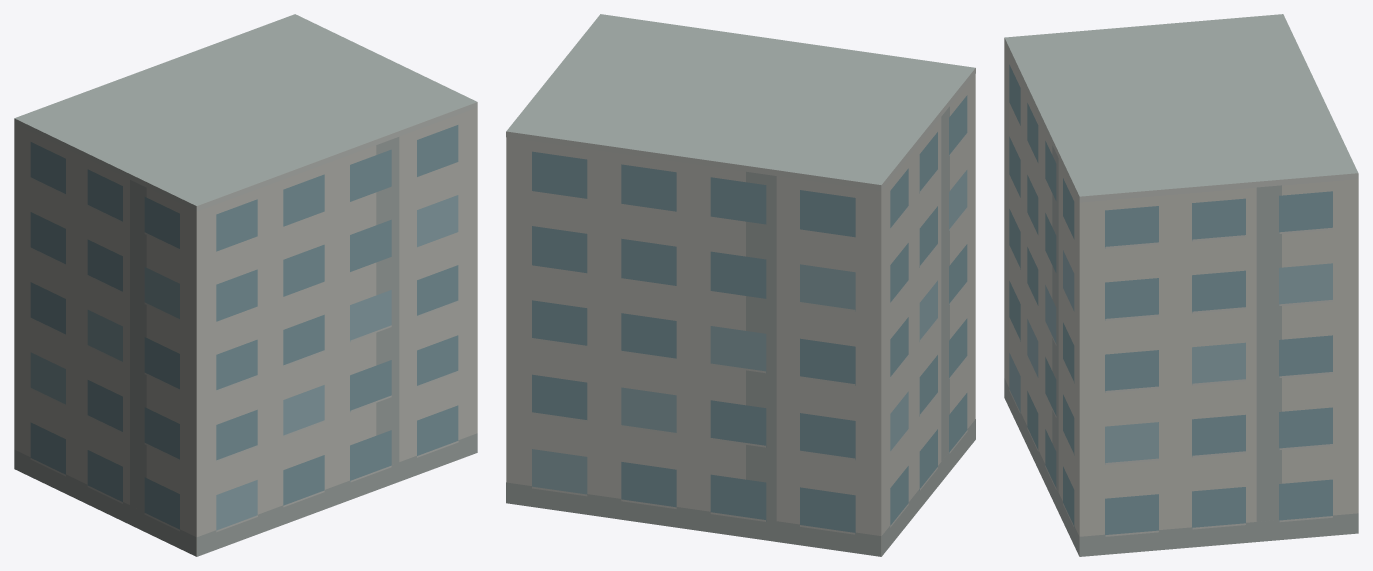
Rendered from residential-8e8fc400-472e-45a3-9b1a-c552fe7d6b94.glb.
3 views of the same model, side by side, from view 1: azimuth 30°, elevation 25°; view 2: azimuth 150°, elevation 25°; view 3: azimuth 270°, elevation 25° (orthographic). The views are drawn at different scales.
Parts seen in each view (by area): view 1: residential-8e8fc400-472e-45a3-9b1a-c552fe7d6b94.tmp; view 2: residential-8e8fc400-472e-45a3-9b1a-c552fe7d6b94.tmp; view 3: residential-8e8fc400-472e-45a3-9b1a-c552fe7d6b94.tmp.
Part boxes in pixels (x1,y1,x2,y2): residential-8e8fc400-472e-45a3-9b1a-c552fe7d6b94.tmp: [14, 14, 477, 556]; residential-8e8fc400-472e-45a3-9b1a-c552fe7d6b94.tmp: [506, 14, 975, 556]; residential-8e8fc400-472e-45a3-9b1a-c552fe7d6b94.tmp: [1004, 14, 1358, 556].
Bounding box in the file's own units: 16.59 × 15.25 × 13.59.
